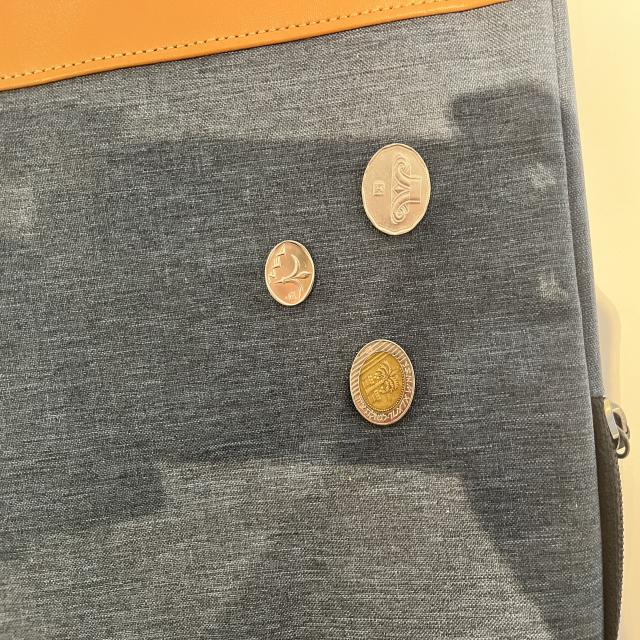1-shekel: (260, 238, 320, 305)
10-shekel: (348, 340, 418, 433)
5-shekel: (362, 141, 437, 237)
